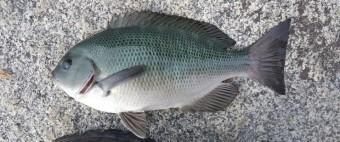fish: (52, 11, 292, 140)
